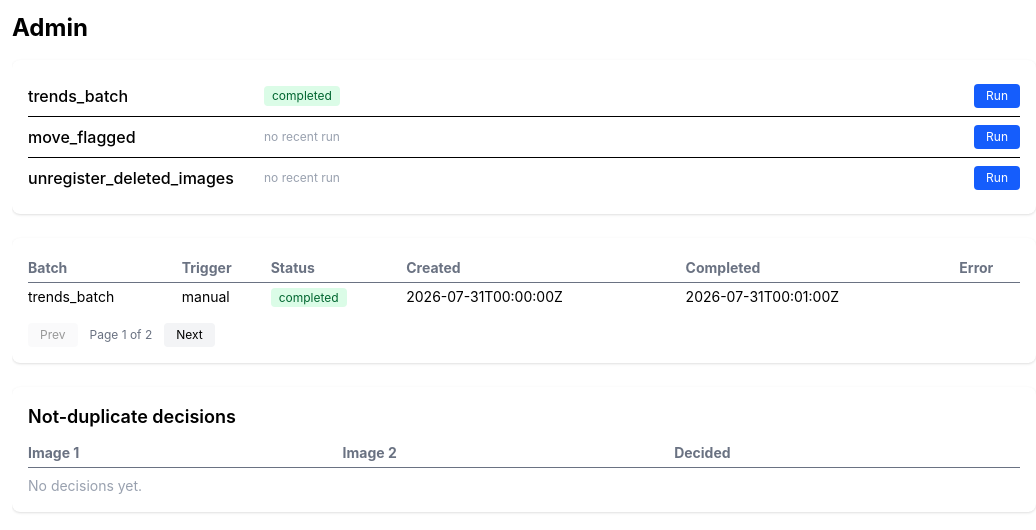
Test case: AdminBatchesPage › paginates using Prev/Next based on total
Expected: the text "Page 1 of 2" is shown, [90,327,152,343]
Expected: the button "Prev" is disabled, [28,323,78,347]
Click the button "Next": click(190, 335) [164,323,215,347]
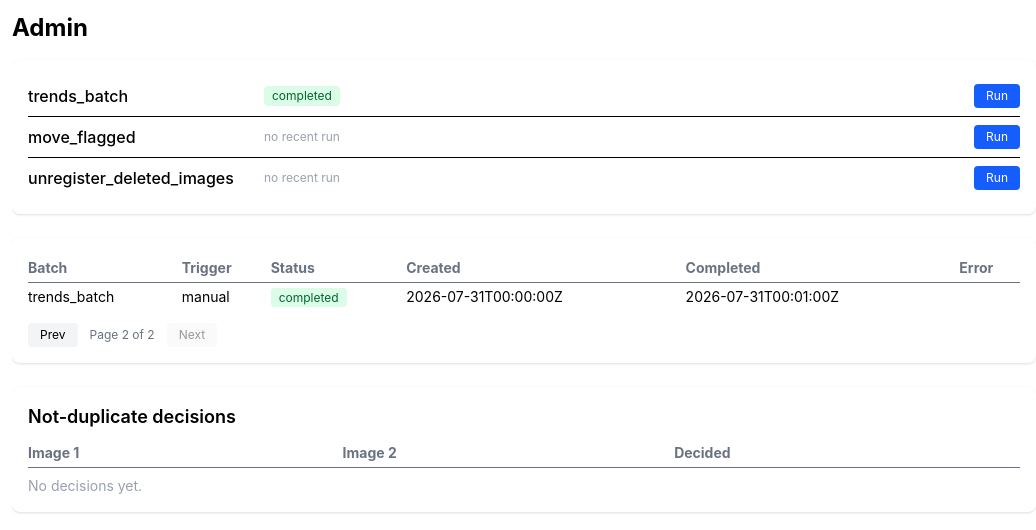
Result: the button "Next" is disabled at [167,323,217,347]
